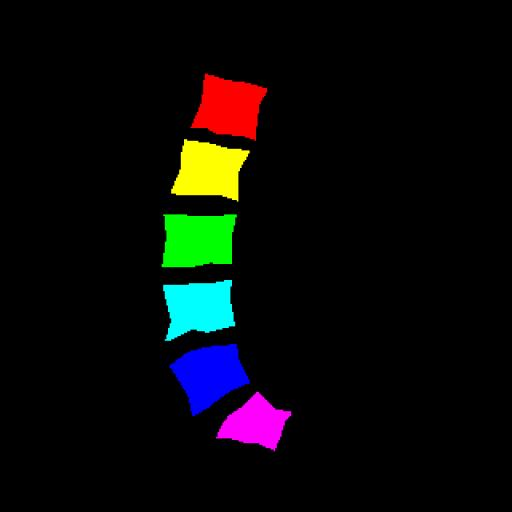L1: (191, 74, 267, 140)
L2: (171, 139, 249, 200)
L3: (162, 214, 236, 266)
L4: (164, 280, 234, 340)
L5: (170, 344, 249, 416)
S1: (217, 392, 291, 450)
